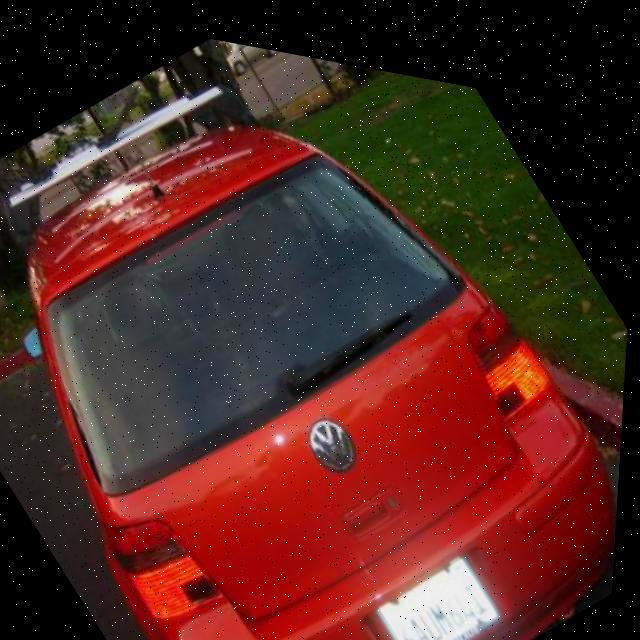license_plate: (377, 523, 515, 640)
